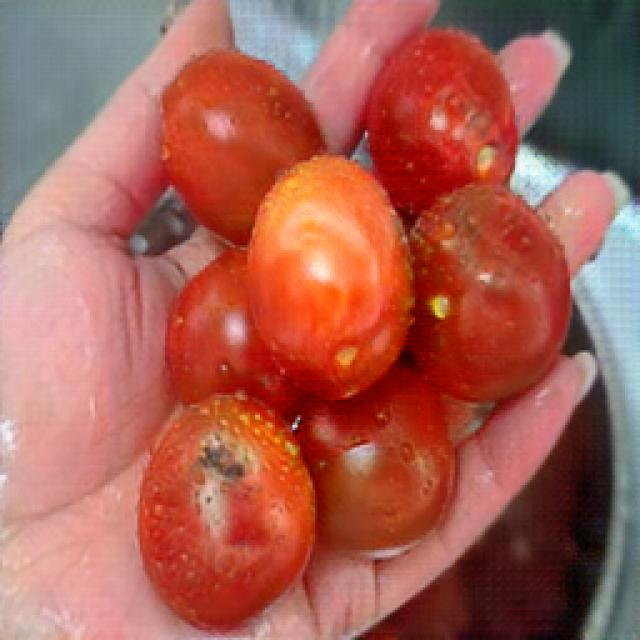overripe tomato: (134, 394, 320, 630), (247, 156, 412, 404), (399, 188, 575, 410), (376, 35, 522, 201)
